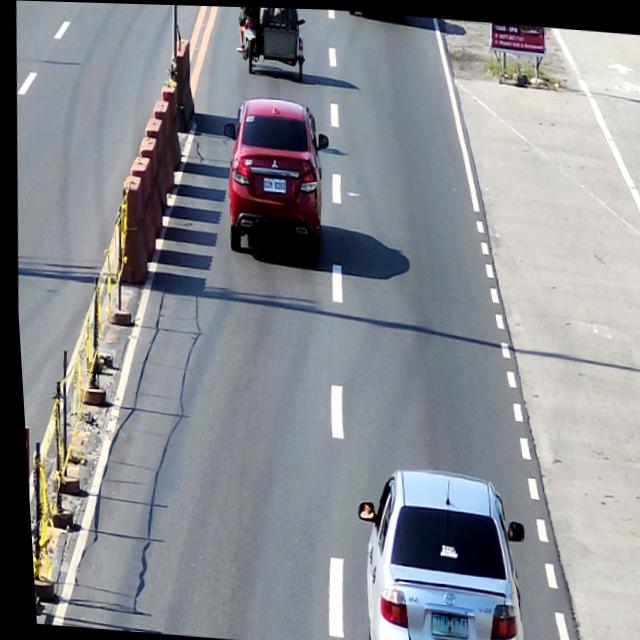Car: (342, 461, 527, 640), (214, 93, 335, 263)
License-Plate: (423, 612, 461, 636), (260, 176, 284, 191), (244, 28, 255, 37)
Tricycle: (236, 5, 308, 84)
